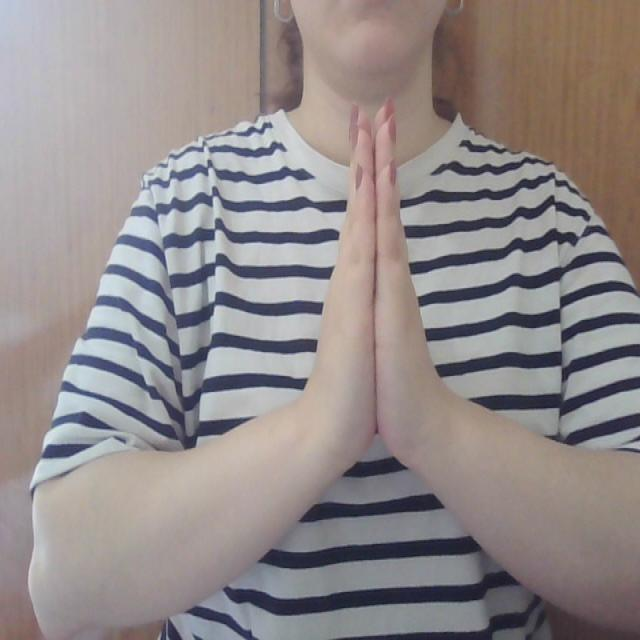Ozur-Dilemek: (297, 89, 462, 512)
